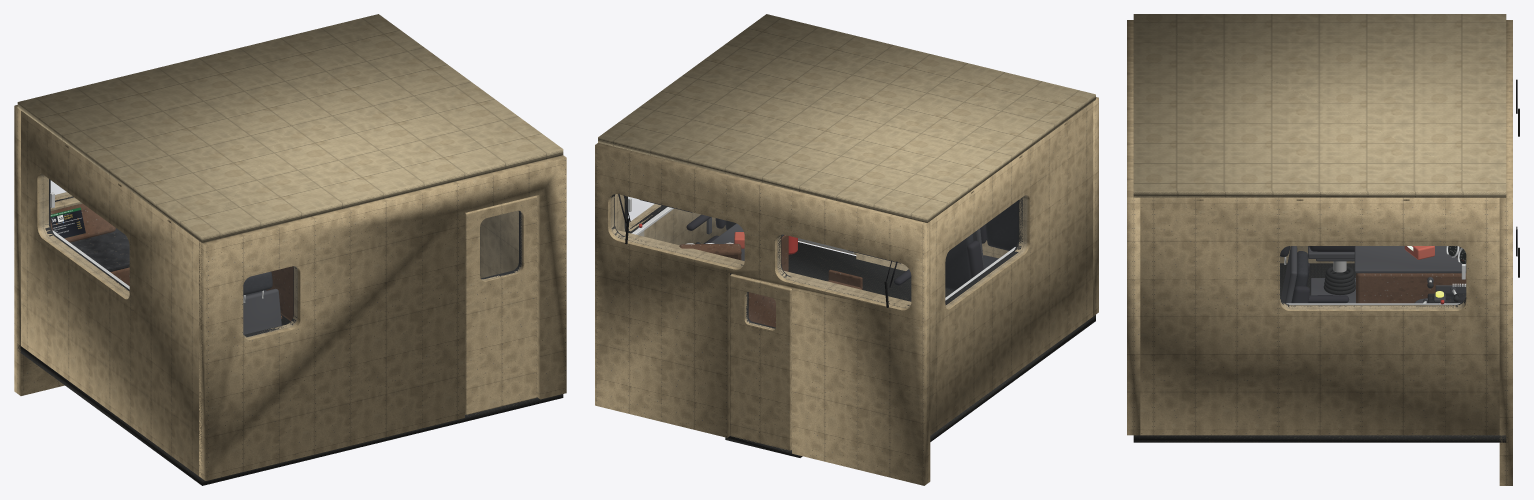
File: sd70ace_stand.glb
The picture shows the model from 3 angles, left to right: view 1: azimuth 30°, elevation 25°; view 2: azimuth 150°, elevation 25°; view 3: azimuth 270°, elevation 25°; orthographic projection. The views are drawn at different scales.
Parts seen in each view (by area): view 1: back_wall, ceiling, side_wall-1, rdoor, sideglass-1, floor, rwin_glass, front_wall, rdoor_glass, side_wall1, cdesk_top, cseat2_backshell (+3 smaller); view 2: front_wall, ceiling, side_wall-1, door_leaf, windshield0, windshield1, sideglass-1, floor, side_wall1, back_wall, sill_shelf, cseat2_back (+5 smaller); view 3: side_wall1, ceiling, sideglass1, front_wall, back_wall, floor, stand_body, stand_cap, eseat_backshell, sidegasket1.
Part boxes in pixels (left/top/right/bottom): back_wall: left=199, top=155, right=566, bottom=480; ceiling: left=17, top=14, right=563, bottom=242; side_wall-1: left=21, top=111, right=202, bottom=476; rdoor: left=465, top=195, right=537, bottom=414; sideglass-1: left=41, top=175, right=128, bottom=296; floor: left=17, top=314, right=563, bottom=485; rwin_glass: left=244, top=266, right=296, bottom=336; front_wall: left=14, top=105, right=70, bottom=395; rdoor_glass: left=480, top=211, right=521, bottom=279; side_wall1: left=480, top=210, right=518, bottom=278; cdesk_top: left=70, top=228, right=129, bottom=271; cseat2_backshell: left=243, top=288, right=281, bottom=334; front_wall: left=595, top=143, right=930, bottom=485; ceiling: left=598, top=14, right=1095, bottom=222; side_wall-1: left=930, top=102, right=1092, bottom=435; door_leaf: left=730, top=274, right=791, bottom=450; windshield0: left=778, top=235, right=910, bottom=307; windshield1: left=611, top=194, right=743, bottom=266; sideglass-1: left=946, top=196, right=1026, bottom=307; floor: left=788, top=242, right=1095, bottom=441; side_wall1: left=614, top=194, right=726, bottom=245; back_wall: left=856, top=97, right=1098, bottom=316; sill_shelf: left=617, top=230, right=911, bottom=306; cseat2_back: left=985, top=201, right=1017, bottom=250; side_wall1: left=1140, top=197, right=1504, bottom=435; ceiling: left=1133, top=14, right=1506, bottom=197; sideglass1: left=1280, top=246, right=1465, bottom=308; front_wall: left=1499, top=20, right=1512, bottom=485; back_wall: left=1127, top=20, right=1140, bottom=435; floor: left=1133, top=263, right=1506, bottom=442; stand_body: left=1356, top=273, right=1466, bottom=303; stand_cap: left=1354, top=246, right=1466, bottom=273; eseat_backshell: left=1281, top=246, right=1297, bottom=303; sidegasket1: left=1280, top=296, right=1466, bottom=307.
Size of the model in its own units: 3.16 by 2.49 by 2.95.
Materials: 31 (16 with a texture image).
